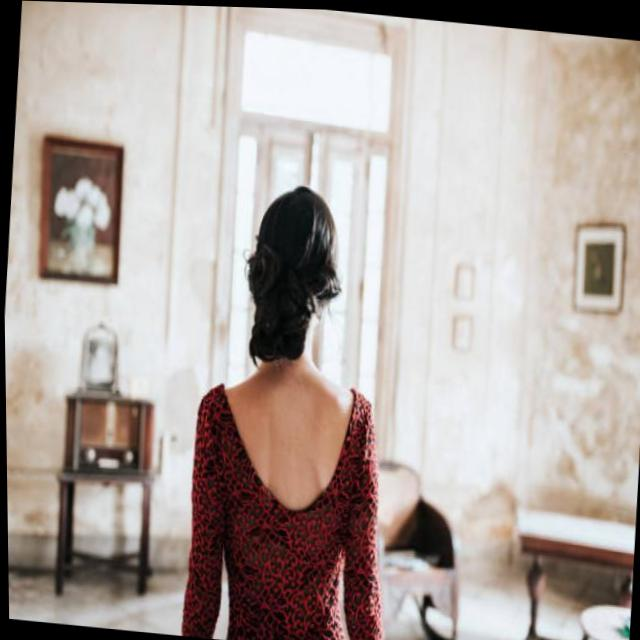no helmet: (240, 172, 350, 376)
